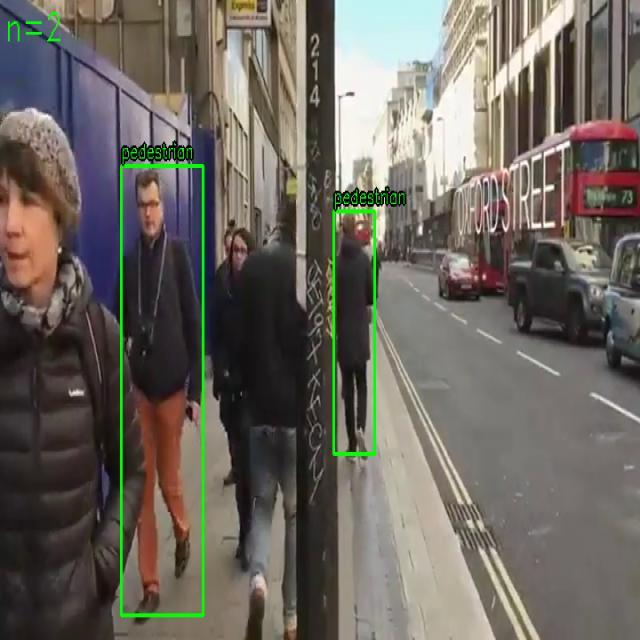with scooter: (120, 165, 204, 616), (333, 210, 375, 454)
